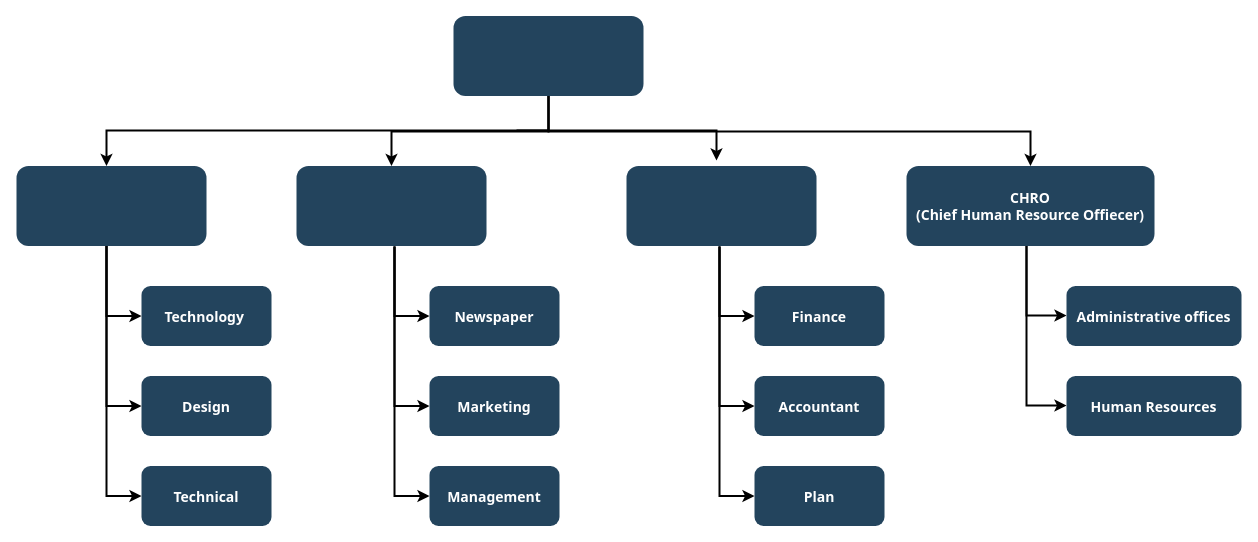
The diagram is 1258 pixels wide and 542 high, and some of its shapes have lost their labels. The shapes that lost their labels are listed below. From the top down, each one's centre as x and y in pixels, then its label:
At (x=548, y=56): "CEO (Chief Excutive Officer)".
At (x=111, y=206): "CTO (Chief Technology Officer)".
At (x=391, y=206): "CCO (Chief Community Officer)".
At (x=721, y=206): "CMO (Chief Marketing Officer)".
